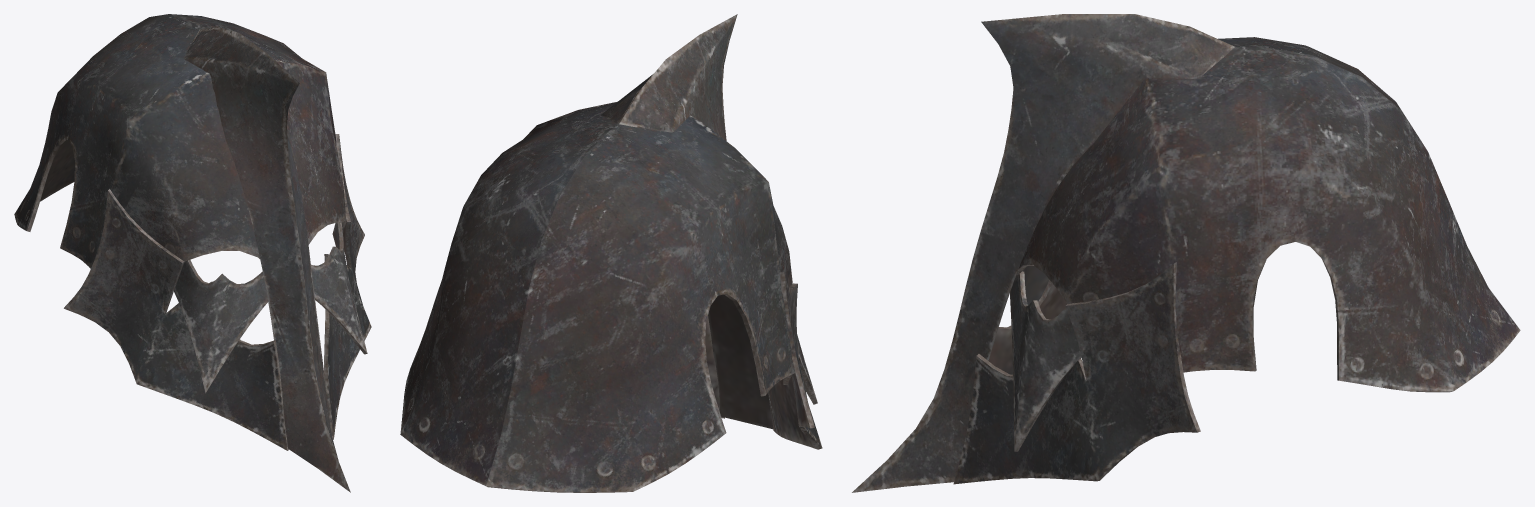
The model's file is sk_dg_uruk_helmet_elite_d.fbx.
The picture shows the model from 3 angles, left to right: view 1: azimuth 30°, elevation 25°; view 2: azimuth 150°, elevation 25°; view 3: azimuth 270°, elevation 25°; orthographic projection. The views are drawn at different scales.
Visible parts, largest first — view 1: sk_dg_uruk_helmet_elite_d; view 2: sk_dg_uruk_helmet_elite_d; view 3: sk_dg_uruk_helmet_elite_d.
Part boxes in pixels (x1,y1,x2,y2): sk_dg_uruk_helmet_elite_d: [14, 14, 371, 492]; sk_dg_uruk_helmet_elite_d: [400, 14, 822, 492]; sk_dg_uruk_helmet_elite_d: [852, 14, 1520, 492].
Size of the model in its own units: 0.2638 by 0.4002 by 0.316.
1 material, 1 textured.
